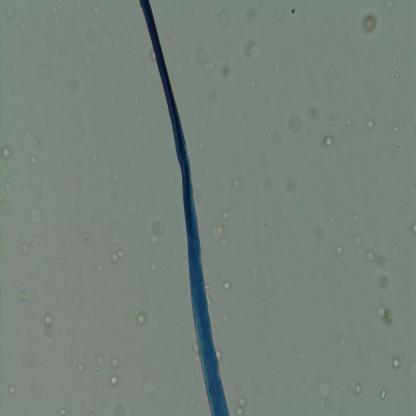Background material: (40, 311, 58, 348), (196, 50, 215, 76), (96, 31, 118, 53), (314, 376, 333, 400), (209, 224, 227, 249), (244, 38, 262, 63), (362, 10, 380, 34), (65, 74, 83, 96), (149, 220, 164, 245), (376, 304, 393, 326), (281, 168, 296, 192), (305, 102, 323, 121), (34, 282, 50, 302), (124, 196, 140, 216), (213, 5, 228, 26), (27, 206, 44, 224), (31, 235, 47, 253), (230, 173, 245, 192), (24, 133, 43, 148), (0, 195, 13, 216), (219, 60, 230, 84), (110, 248, 127, 263), (314, 225, 329, 242), (37, 62, 51, 79), (79, 233, 93, 250), (374, 250, 387, 268), (132, 145, 147, 160), (282, 47, 293, 67), (137, 309, 149, 327), (290, 116, 302, 134), (321, 132, 335, 147), (18, 242, 31, 256), (376, 275, 388, 290), (236, 396, 245, 416), (66, 129, 80, 141), (388, 354, 400, 368), (0, 148, 11, 163), (382, 0, 397, 11), (276, 4, 285, 22), (248, 68, 256, 88), (107, 375, 119, 388), (113, 404, 126, 416), (17, 17, 28, 31), (351, 234, 361, 249), (378, 386, 388, 401), (323, 116, 339, 125), (71, 293, 83, 305), (108, 356, 121, 367), (6, 5, 17, 18), (45, 32, 55, 46), (395, 113, 405, 127), (250, 264, 261, 276), (334, 244, 345, 256), (30, 154, 40, 167), (365, 249, 374, 263), (90, 5, 101, 16), (221, 279, 232, 290), (94, 354, 104, 366), (268, 227, 278, 239), (353, 382, 363, 394), (166, 224, 174, 238), (25, 356, 35, 367), (90, 150, 99, 162), (4, 184, 13, 196), (171, 30, 180, 42), (19, 290, 28, 302), (169, 64, 176, 79), (57, 406, 67, 416), (7, 384, 16, 395), (215, 347, 222, 361), (148, 260, 156, 272), (76, 360, 84, 372), (170, 245, 179, 255), (0, 168, 9, 178), (369, 59, 378, 69), (358, 337, 367, 347), (50, 4, 58, 15), (113, 172, 121, 183), (149, 393, 157, 404), (367, 118, 375, 129), (328, 67, 336, 78), (150, 49, 157, 61), (206, 291, 212, 305), (188, 396, 196, 406), (112, 236, 121, 244), (21, 185, 30, 193), (389, 58, 398, 66), (35, 364, 43, 373), (393, 125, 401, 134), (193, 340, 198, 354), (273, 63, 280, 73), (0, 241, 6, 252), (224, 312, 230, 323), (96, 263, 104, 271), (393, 142, 401, 150), (240, 119, 247, 128), (223, 212, 232, 219), (134, 118, 140, 128), (195, 368, 201, 378), (275, 148, 282, 156), (411, 223, 416, 234), (346, 118, 352, 127), (94, 364, 100, 372), (352, 214, 358, 222), (56, 163, 62, 170), (194, 355, 199, 363), (395, 71, 400, 79), (204, 284, 212, 288), (200, 144, 206, 149), (290, 9, 296, 14), (10, 120, 13, 127), (396, 49, 400, 53)
Cotton: (138, 0, 230, 416)
Glass filter fibre: (133, 70, 143, 117), (47, 253, 80, 265), (8, 156, 22, 184)
